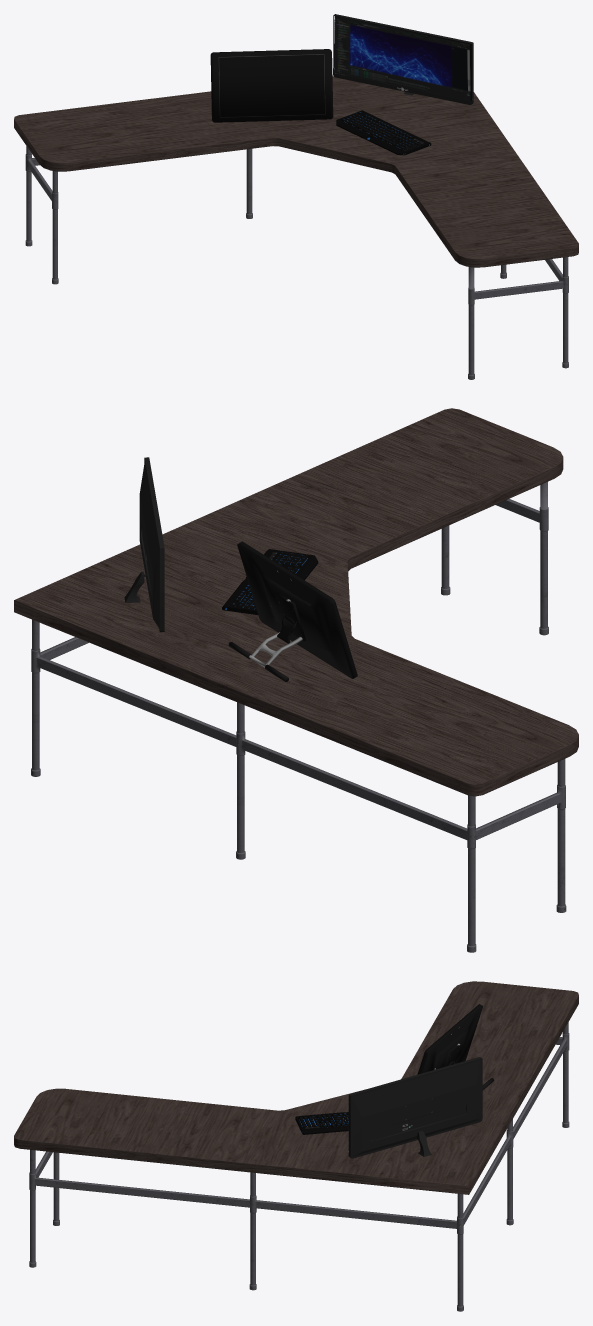
3 renders of one model, top to bottom at view 1: azimuth 30°, elevation 25°; view 2: azimuth 150°, elevation 25°; view 3: azimuth 270°, elevation 25°, orthographic. The views are drawn at different scales.
Visible parts, largest first — view 1: Desk, 1_M_HUION_KAMVAS_GT_221_PRO_0, Plane, Keyboard, Monitor_Wide; view 2: Desk, 1_M_HUION_KAMVAS_GT_221_PRO_0, Monitor_Wide, Keyboard; view 3: Desk, Monitor_Wide, 1_M_HUION_KAMVAS_GT_221_PRO_0, Keyboard.
Boxes of the visible parts, x1,y1,x2,y2 form: Desk: (14, 76, 578, 379); 1_M_HUION_KAMVAS_GT_221_PRO_0: (210, 49, 333, 122); Plane: (333, 16, 472, 103); Keyboard: (336, 110, 431, 155); Monitor_Wide: (333, 14, 473, 104); Desk: (14, 408, 578, 952); 1_M_HUION_KAMVAS_GT_221_PRO_0: (228, 541, 357, 681); Monitor_Wide: (124, 457, 164, 632); Keyboard: (222, 549, 318, 614); Desk: (14, 981, 578, 1311); Monitor_Wide: (348, 1057, 482, 1158); 1_M_HUION_KAMVAS_GT_221_PRO_0: (417, 1004, 493, 1090); Keyboard: (295, 1112, 348, 1134).
Bounding box in the file's own units: 219 × 101 × 256.
6 materials, 6 textured.
